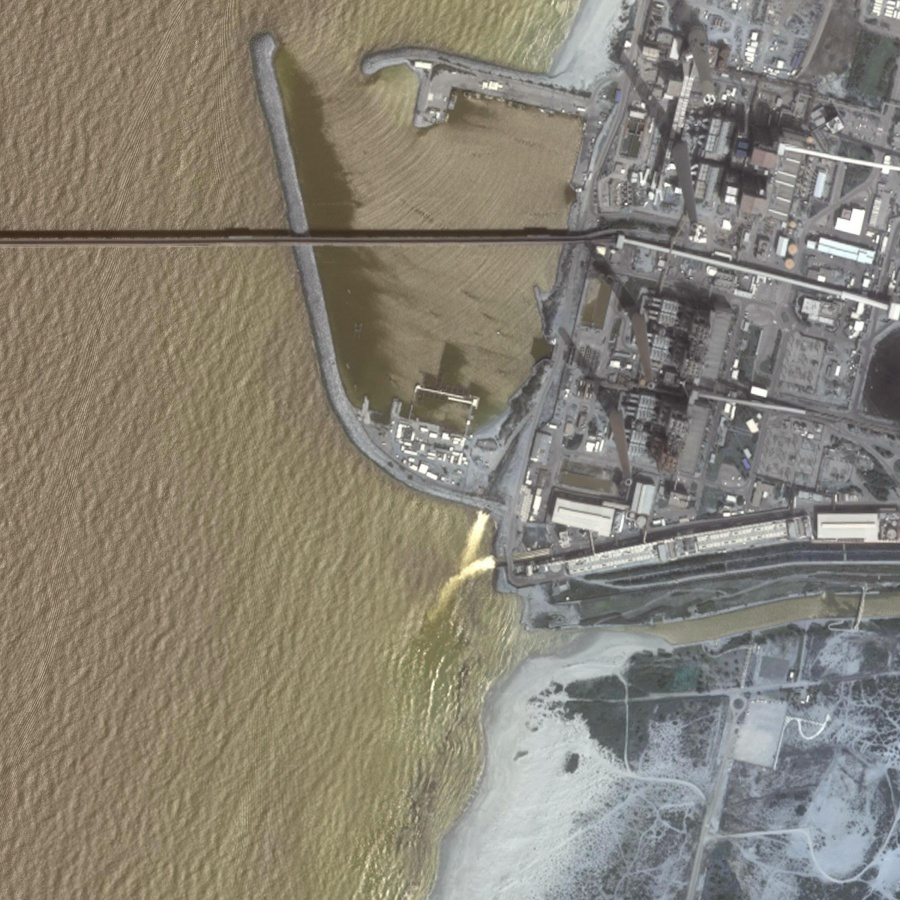PowerPlant: (525, 72, 786, 493)
